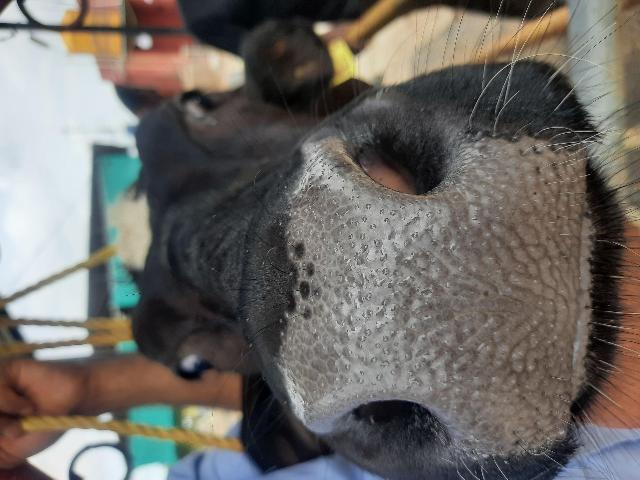Muzzle: (304, 179, 582, 413)
